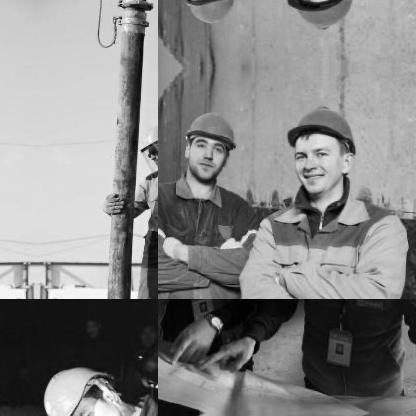Helmet: (278, 95, 362, 196), (31, 357, 127, 415), (180, 102, 242, 180), (277, 0, 364, 38), (179, 0, 244, 32), (138, 120, 157, 167)
